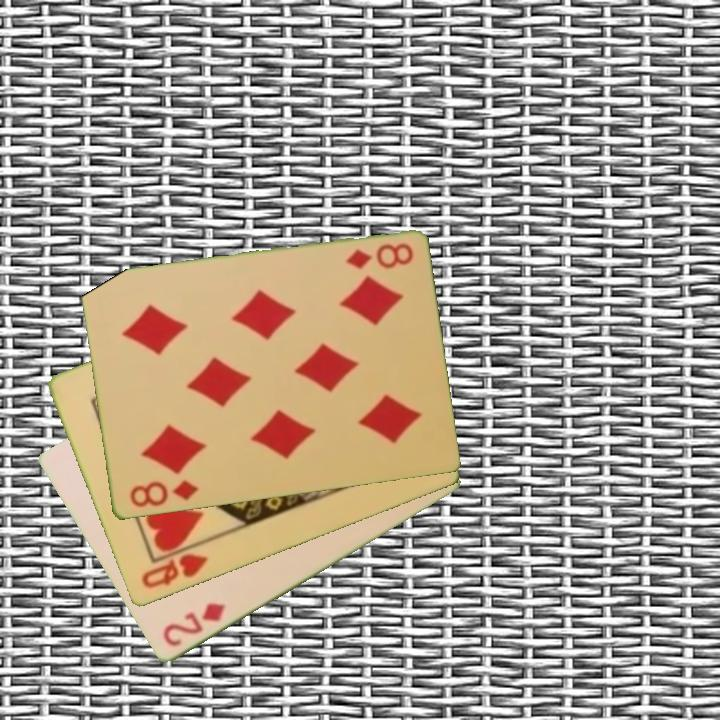2d: (159, 599, 228, 651)
8d: (126, 477, 201, 511), (342, 240, 416, 273)
Qh: (137, 550, 211, 592)
